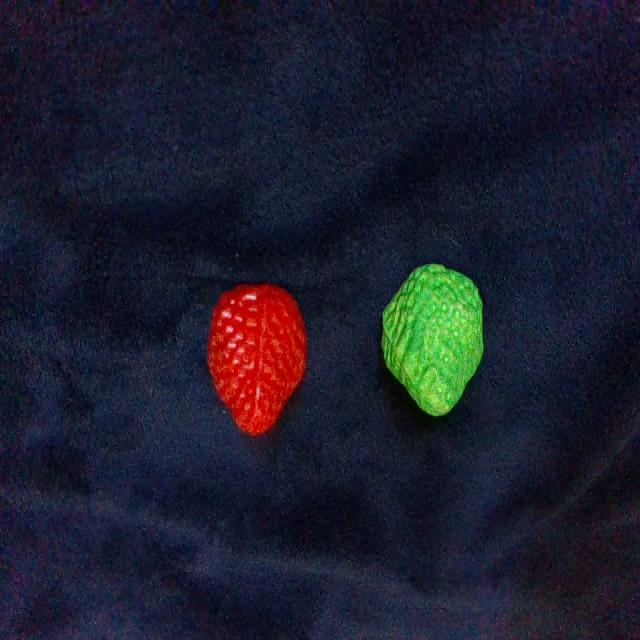chica_roja: (207, 284, 305, 435)
verde: (381, 265, 483, 415)
